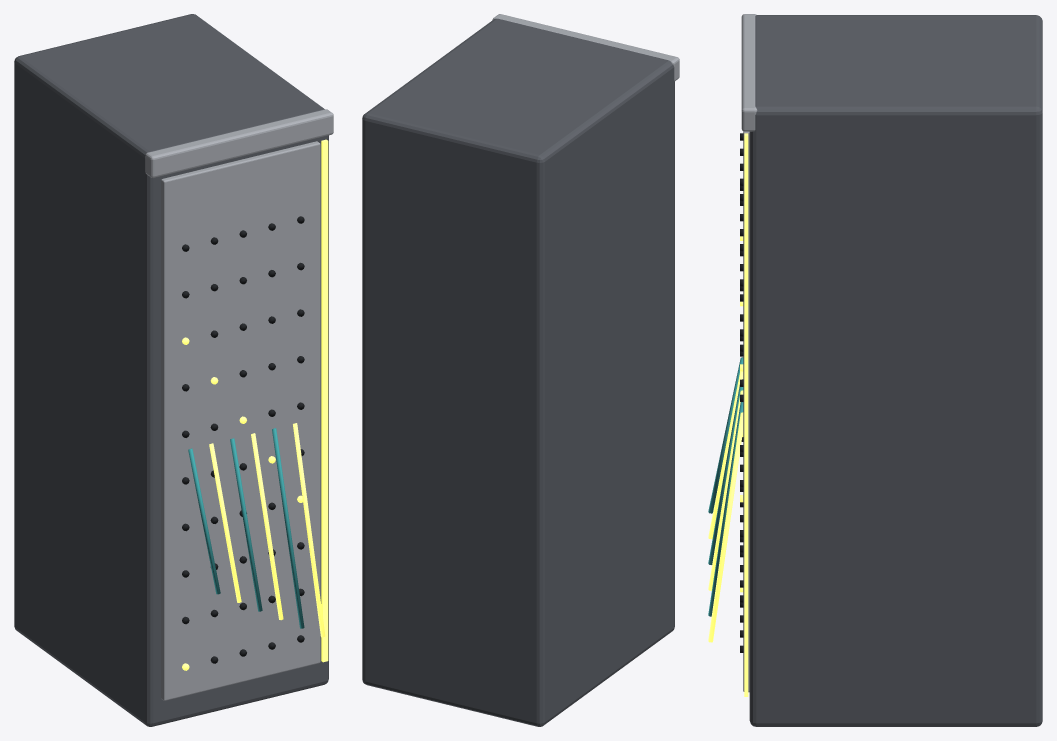
The model's file is server_rack_patch_panel.glb.
3 views of the same model, side by side, from view 1: azimuth 30°, elevation 25°; view 2: azimuth 150°, elevation 25°; view 3: azimuth 270°, elevation 25° (orthographic). The views are drawn at different scales.
Visible parts, largest first — view 1: GD_server_rack_patch_panel__m0, GD_server_rack_patch_panel__m1, GD_server_rack_patch_panel__m3, GD_server_rack_patch_panel__m4, GD_server_rack_patch_panel__m2; view 2: GD_server_rack_patch_panel__m0, GD_server_rack_patch_panel__m1; view 3: GD_server_rack_patch_panel__m0, GD_server_rack_patch_panel__m3, GD_server_rack_patch_panel__m1, GD_server_rack_patch_panel__m4, GD_server_rack_patch_panel__m2.
Part boxes in pixels (left/top/right/bottom): GD_server_rack_patch_panel__m0: left=14, top=14, right=328, bottom=726; GD_server_rack_patch_panel__m1: left=145, top=109, right=333, bottom=700; GD_server_rack_patch_panel__m3: left=182, top=139, right=328, bottom=670; GD_server_rack_patch_panel__m4: left=188, top=428, right=304, bottom=628; GD_server_rack_patch_panel__m2: left=182, top=216, right=304, bottom=663; GD_server_rack_patch_panel__m0: left=362, top=18, right=674, bottom=726; GD_server_rack_patch_panel__m1: left=492, top=14, right=679, bottom=81; GD_server_rack_patch_panel__m0: left=749, top=15, right=1042, bottom=726; GD_server_rack_patch_panel__m3: left=708, top=133, right=748, bottom=696; GD_server_rack_patch_panel__m1: left=741, top=14, right=757, bottom=692; GD_server_rack_patch_panel__m4: left=708, top=357, right=743, bottom=616; GD_server_rack_patch_panel__m2: left=740, top=133, right=743, bottom=652.
Bounding box in the file's own units: 0.7 × 2.1 × 1.03.
